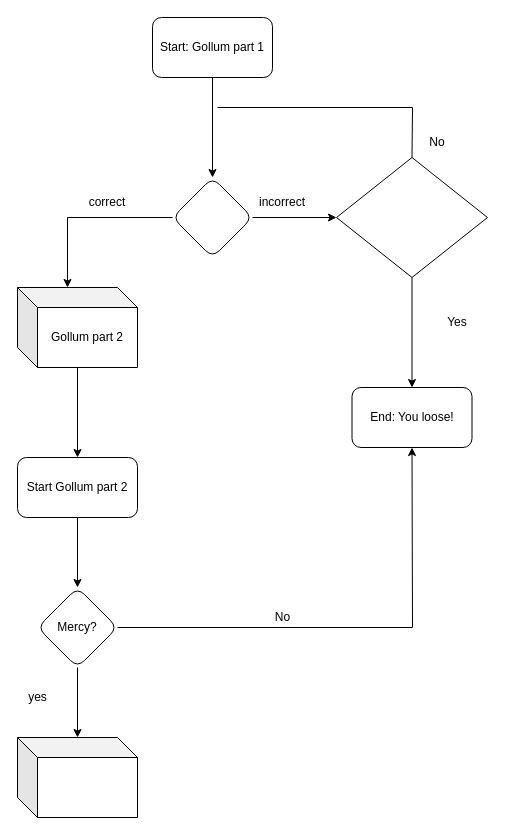
Image size: 505x835. Some labels were removed from this diagram. Each missing label, with the box of its shape:
Gollum points way to chamber of Mazarbul: (16, 736, 138, 818)
Inccorect. Attempt nr 3?: (336, 156, 488, 278)
Random riddle 1: (172, 176, 252, 258)
